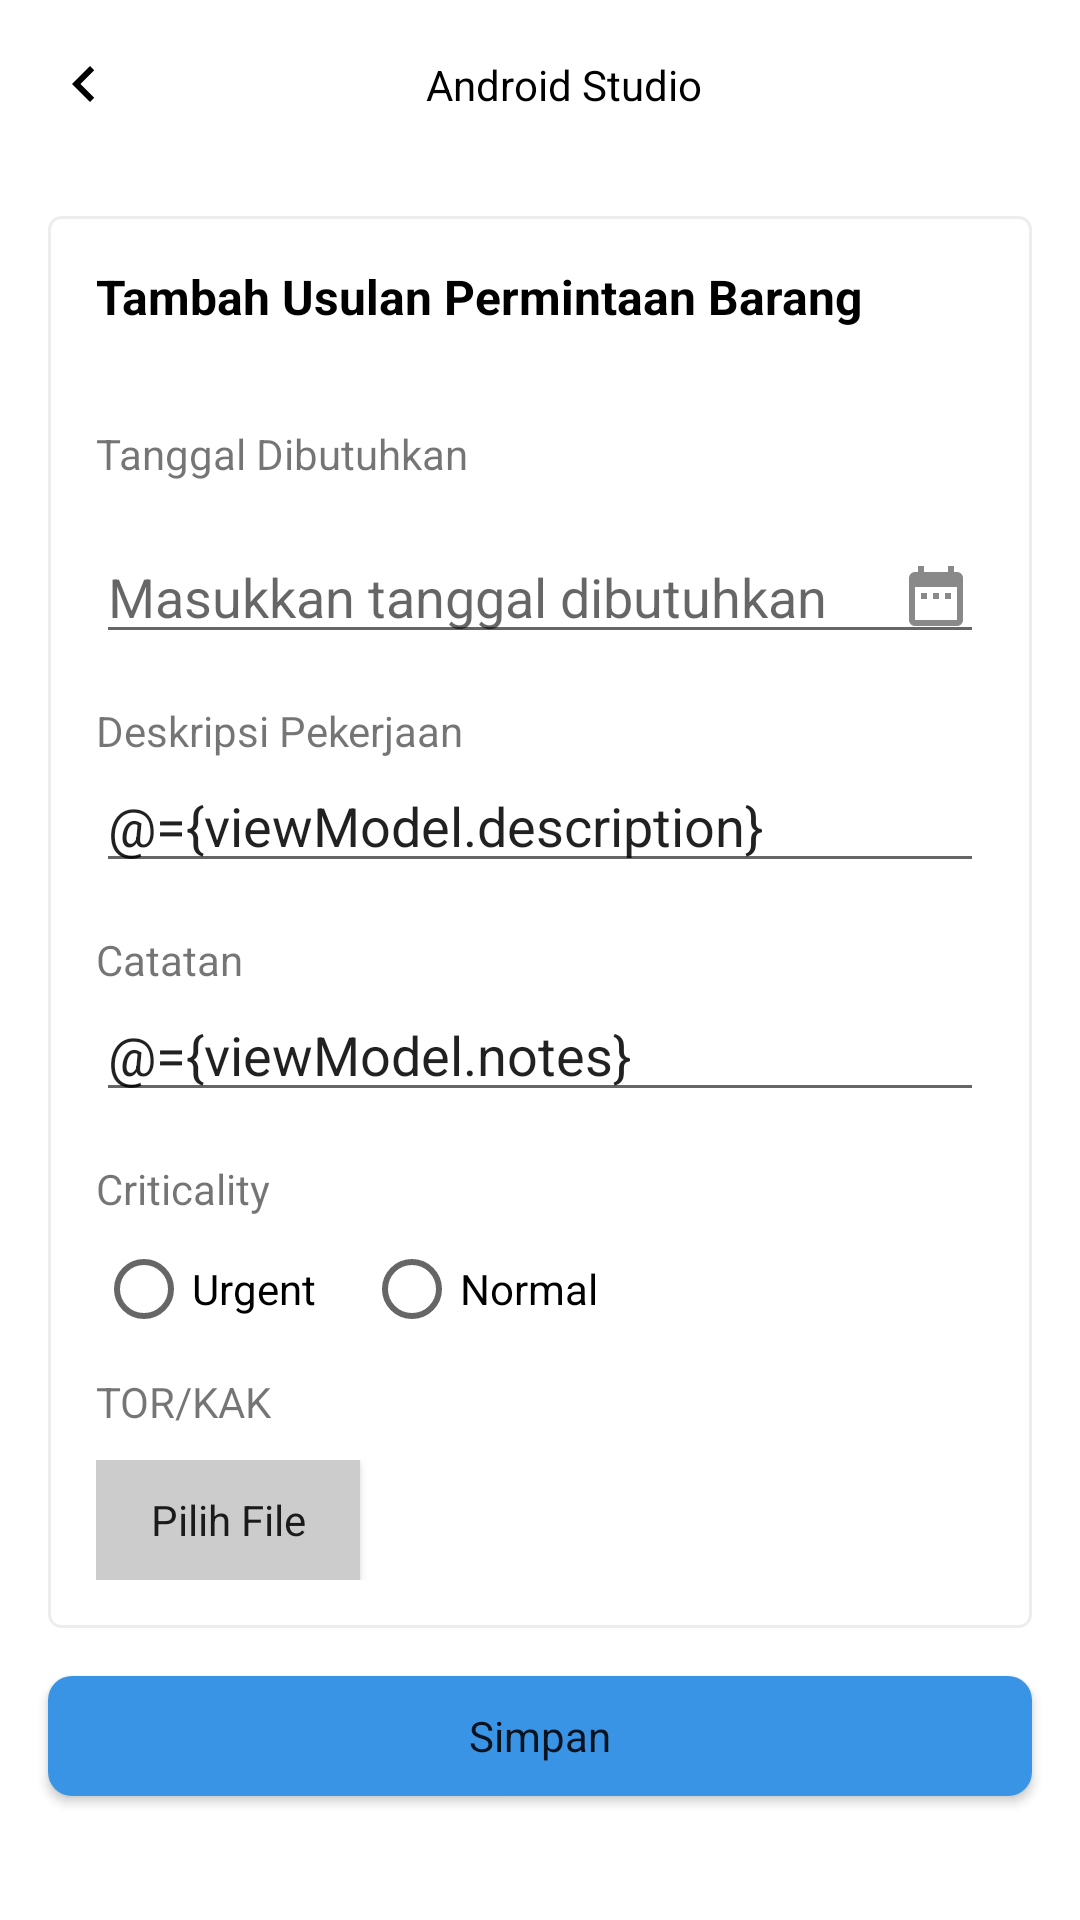

Point at icon controls on the screen. Image size 1080px×1920px, points as (x,y).
btn for back: (83,84)
